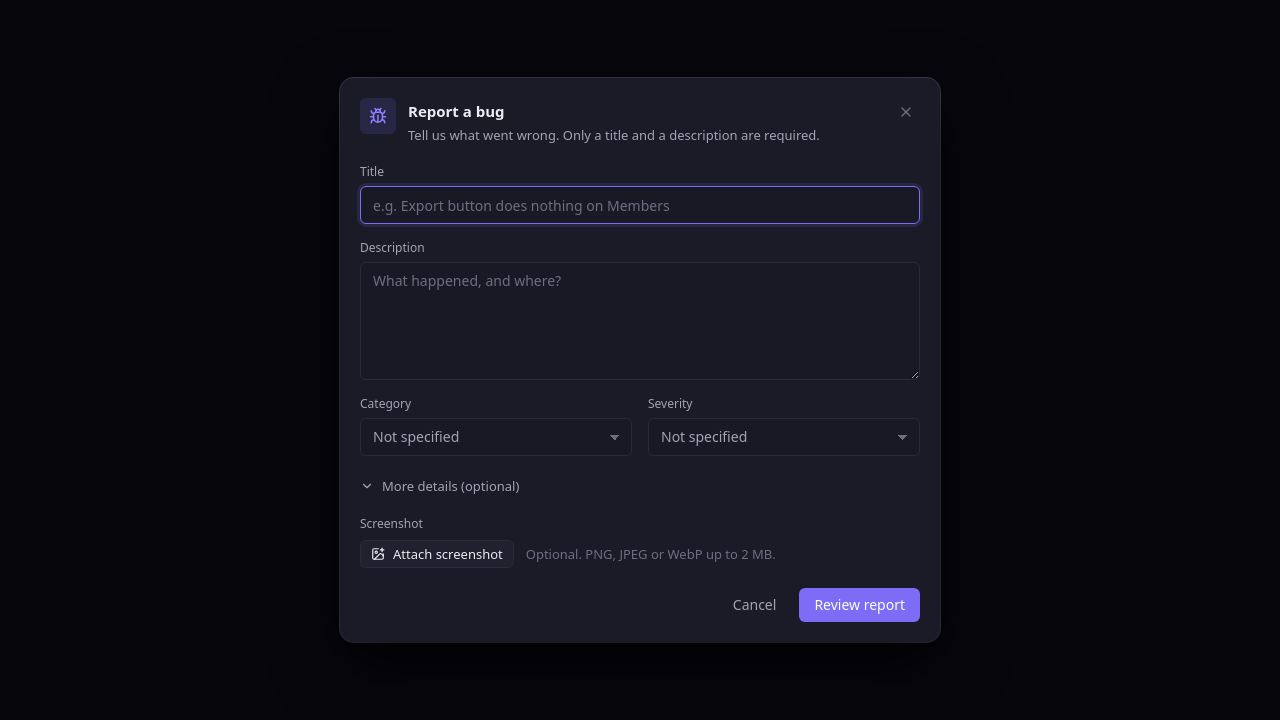
Test: Report a bug › returns to the form with the field error the server reported
The width and height of the screenshot is (1280, 720).
Type "  Export does nothing " into the field labelled "Title".
click(640, 205); type("  Export does nothing ")  # box [361,187,919,223]
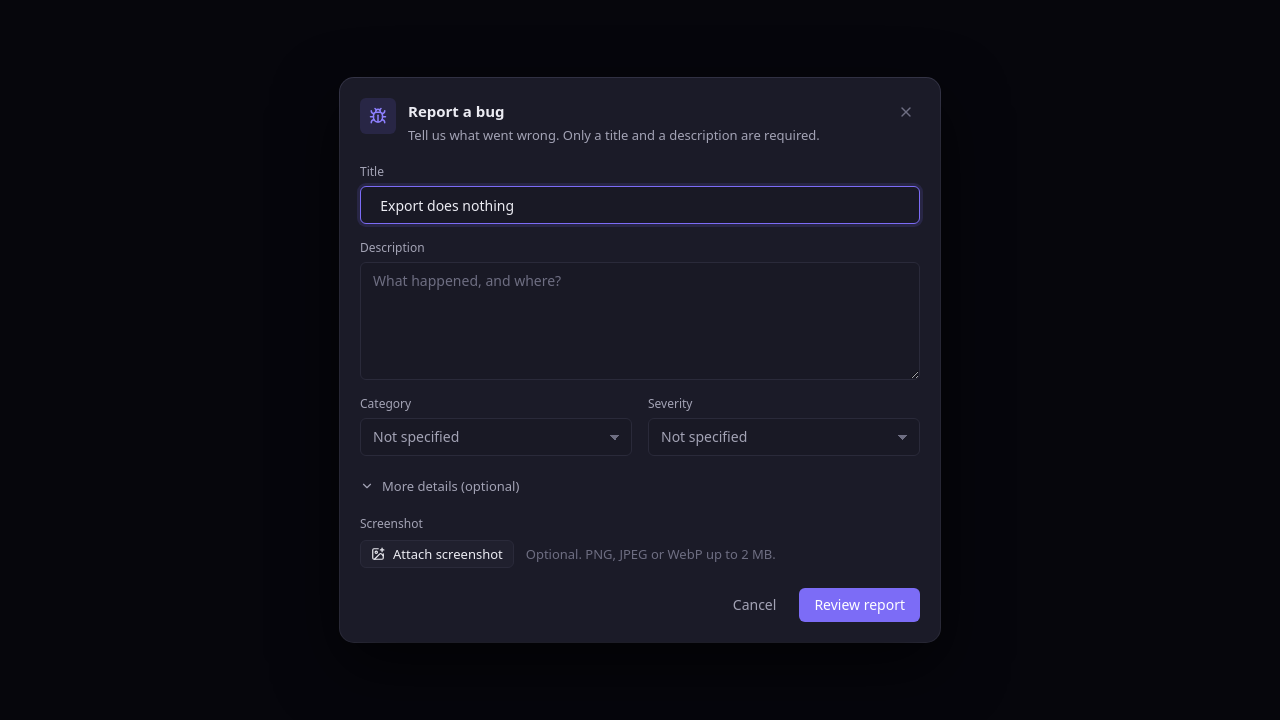
Type "No file is downloaded." into the text box labelled "Description".
click(640, 321); type("No file is downloaded.")  # box [361,263,919,379]
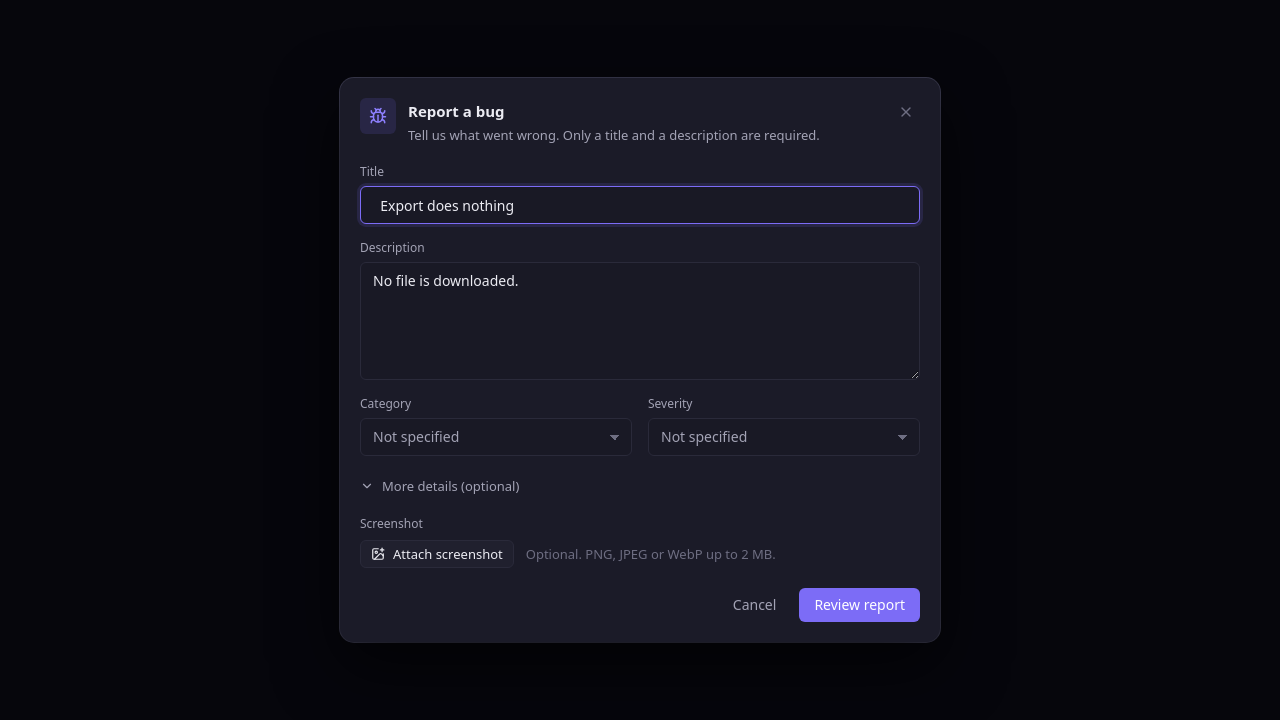
Click the button "Review report".
click(860, 605)  # box [799,588,920,622]
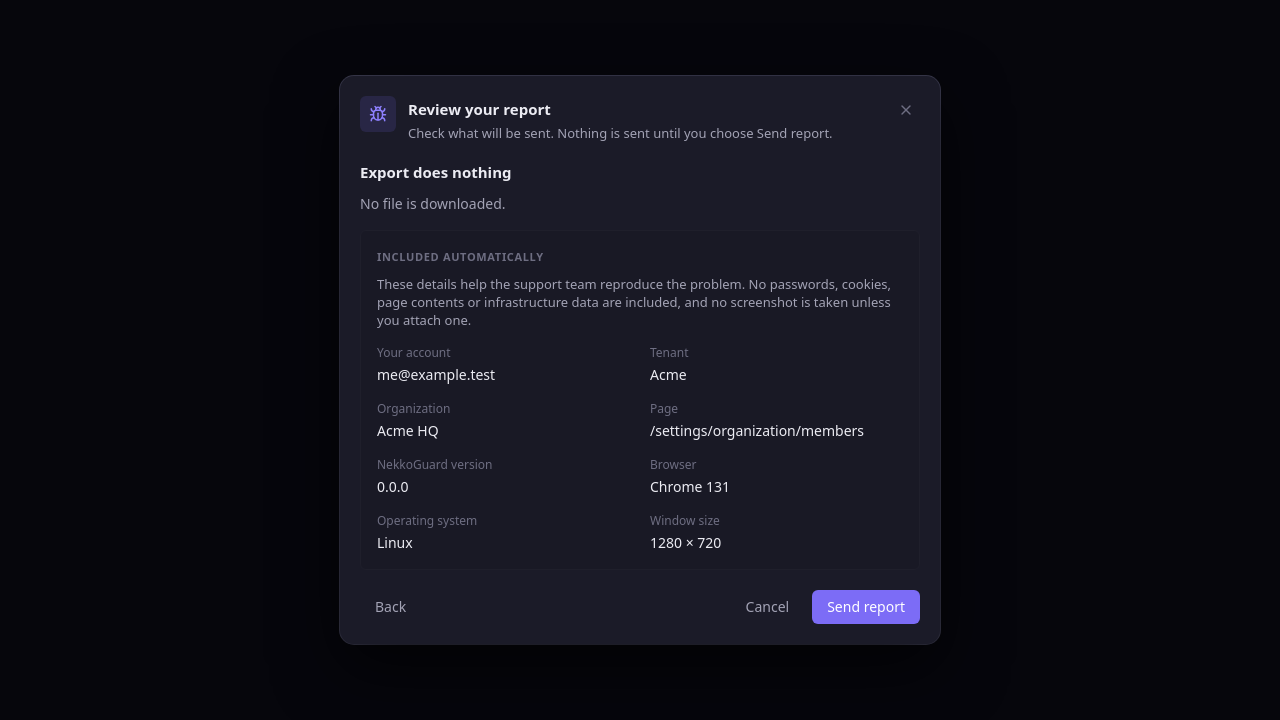
Click the button "Send report".
click(866, 607)  # box [812,590,920,624]
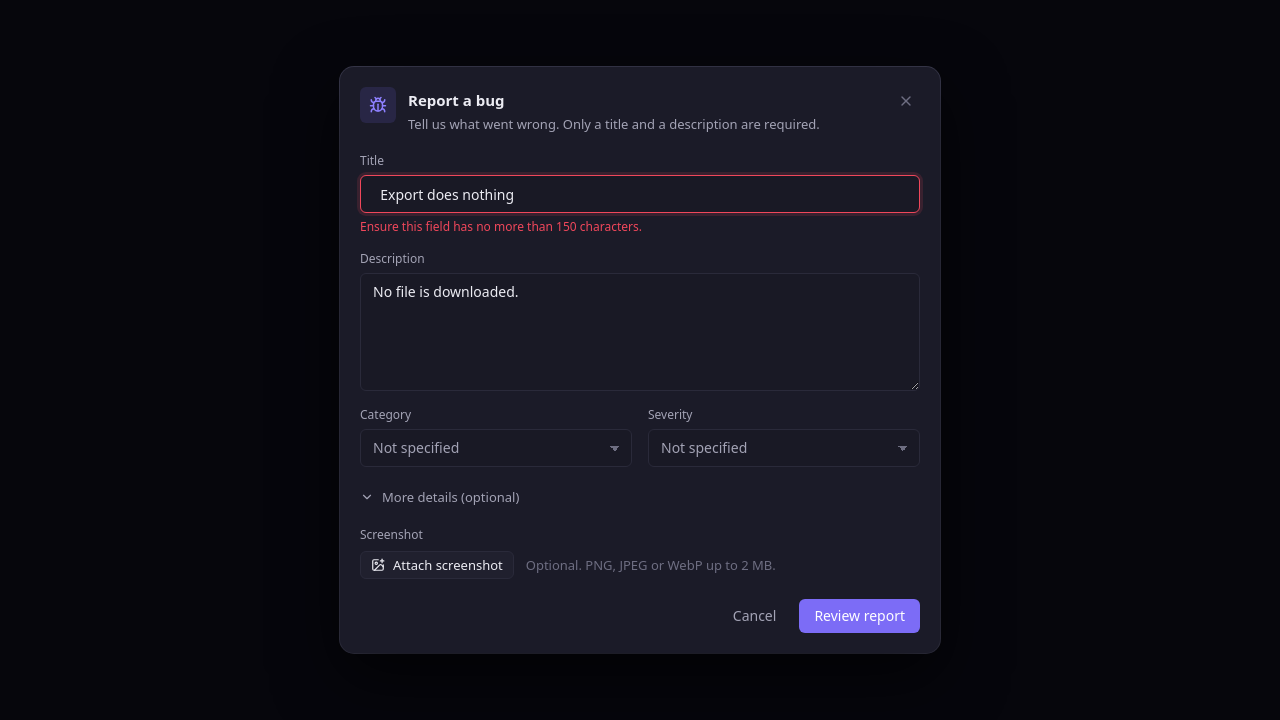
Check: the dialog "Report a bug" is shown, box [340,67,940,653]
Check: the text "Ensure this field has no more than 150 characters." is shown, box [360,218,642,235]
